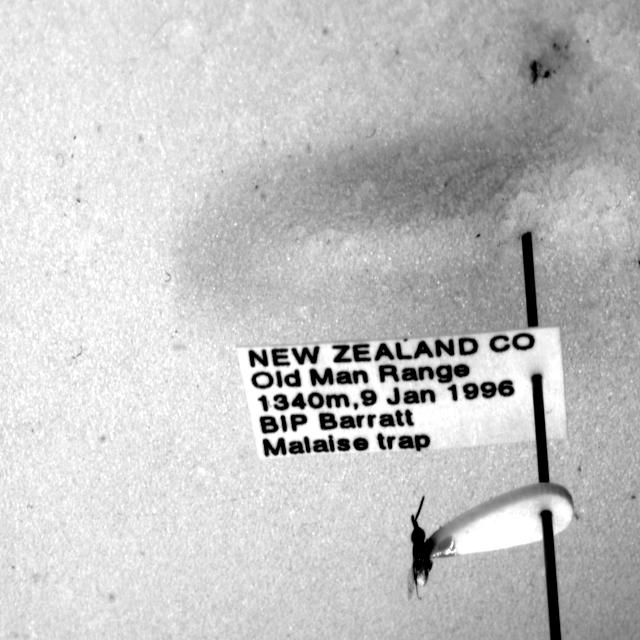typed_label: (238, 326, 568, 458)
